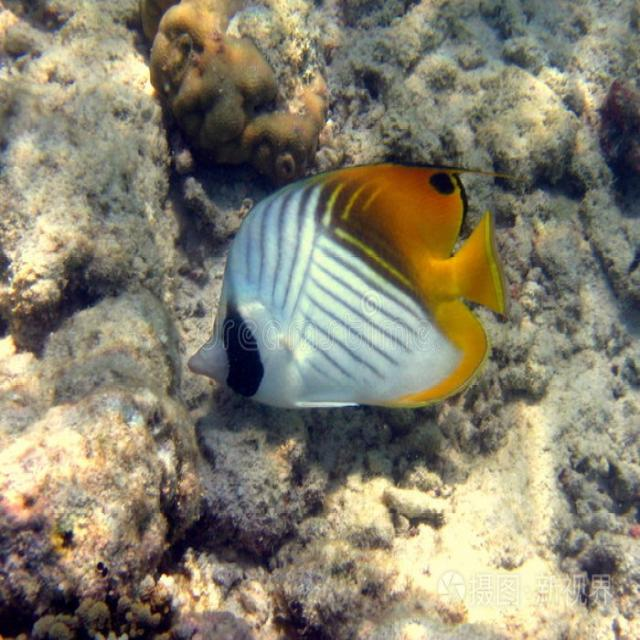ButterflyFish: (190, 167, 504, 428)
